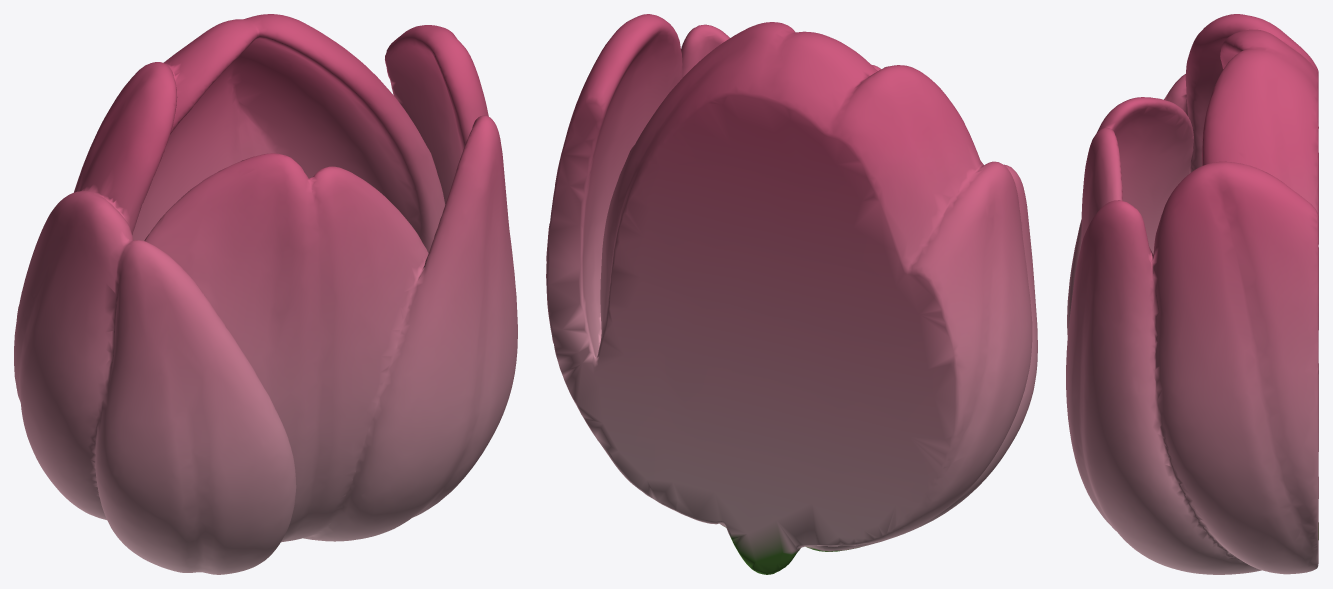
Rendered from tulip.glb.
3 views of the same model, side by side, from view 1: azimuth 30°, elevation 25°; view 2: azimuth 150°, elevation 25°; view 3: azimuth 270°, elevation 25° (orthographic). The views are drawn at different scales.
Parts seen in each view (by area): view 1: tulip; view 2: tulip; view 3: tulip.
Part boxes in pixels (x1,y1,x2,y2): tulip: (14, 14, 517, 574); tulip: (546, 14, 1037, 574); tulip: (1066, 14, 1318, 574).
Size of the model in its own units: 0.8852 by 1 by 0.4402.
